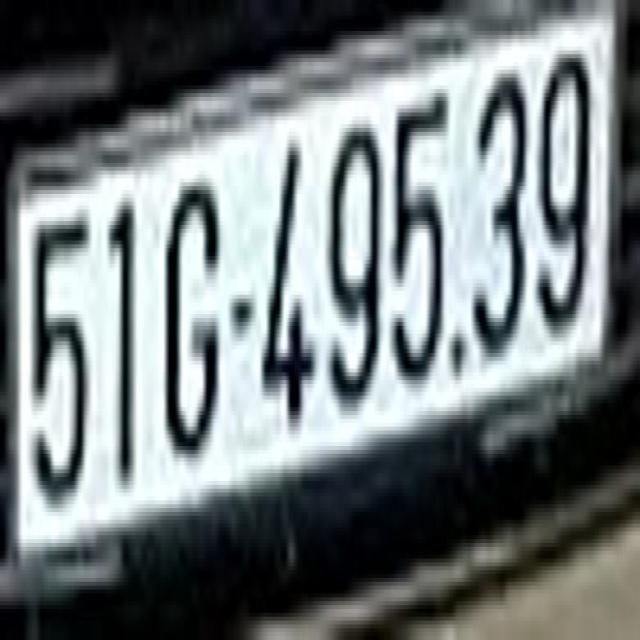1: (104, 167, 150, 508)
3: (472, 50, 528, 384)
4: (256, 113, 320, 446)
5: (26, 190, 96, 535), (389, 58, 448, 388)
9: (321, 81, 384, 426), (534, 35, 594, 345)
G: (160, 159, 222, 477)
